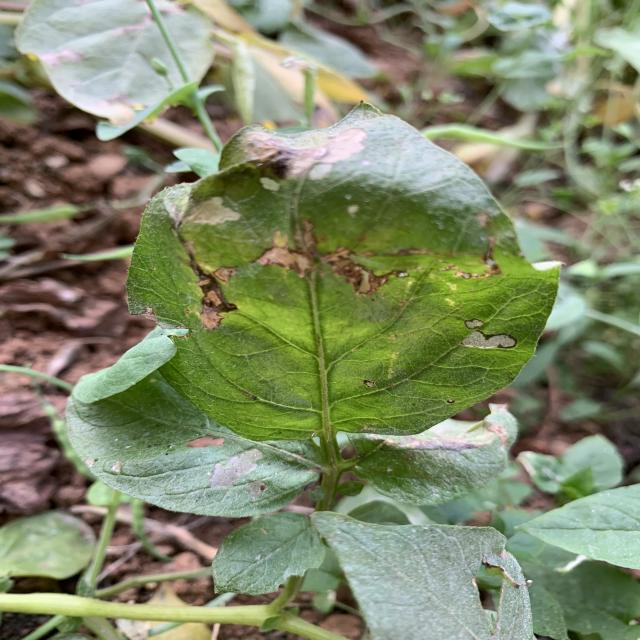lateblight: (358, 222, 557, 306), (220, 105, 380, 179), (320, 246, 407, 296), (193, 264, 238, 329), (257, 246, 312, 278), (462, 319, 517, 349)
